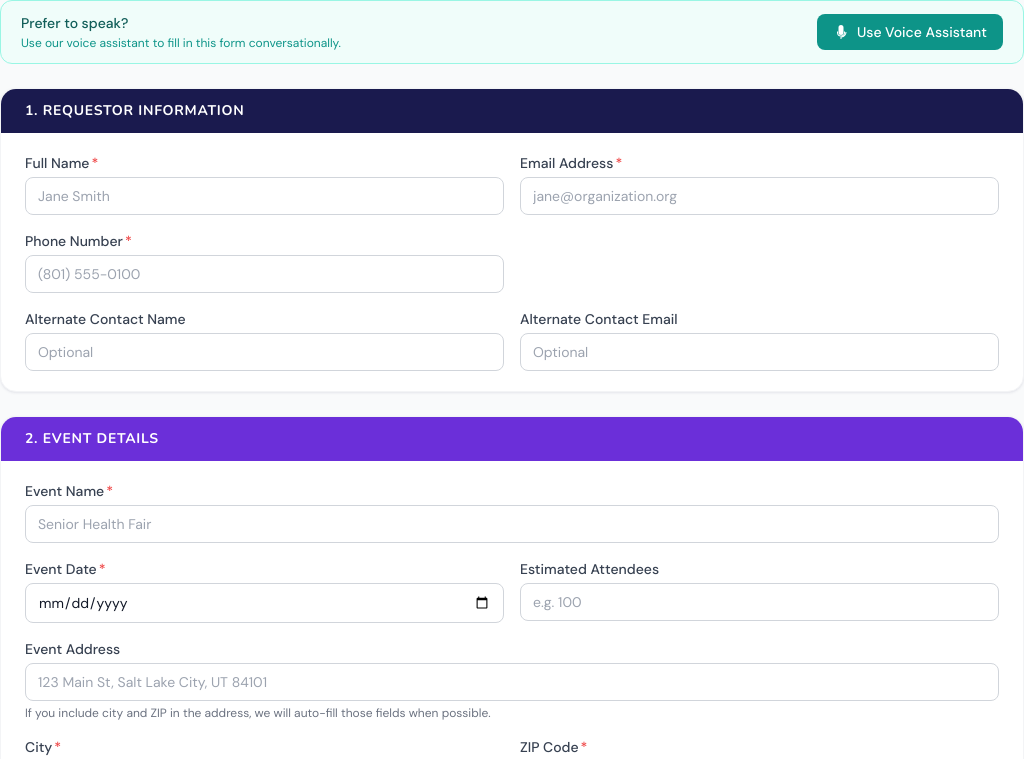
RequestForm › Event date validation › shows error for past date on blur
This screenshot has width=1024, height=759.
Type "2020-01-01" into the date field labelled "Event Date*" at (264, 603), box [25, 583, 504, 623]
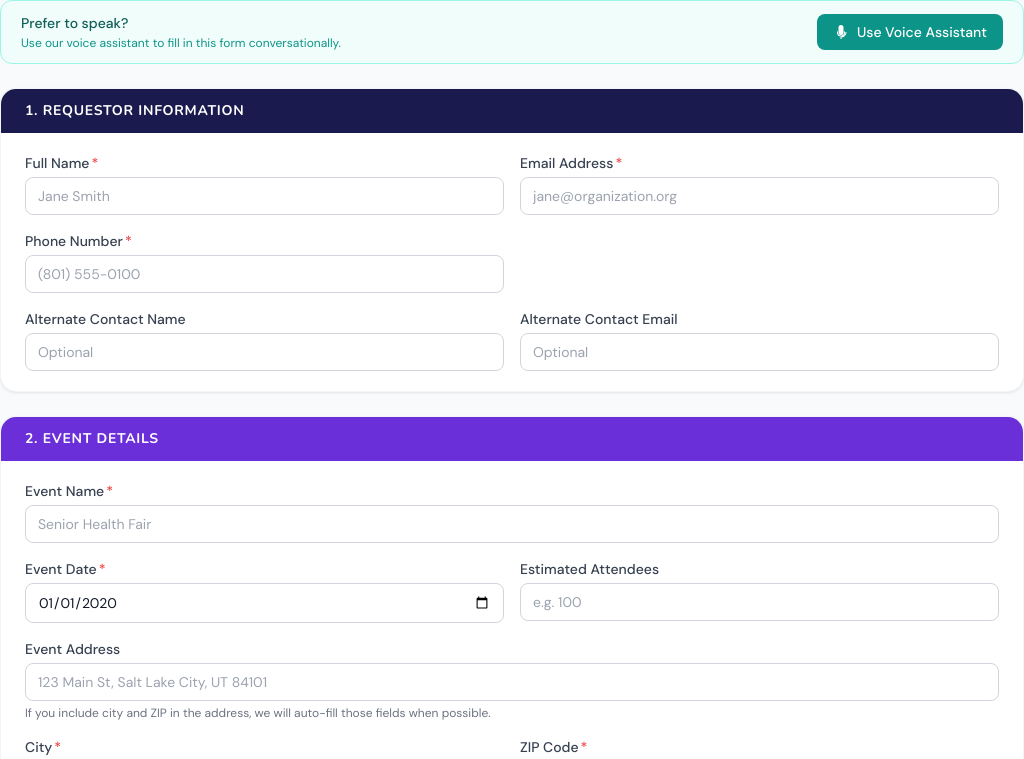
Leave the date field labelled "Event Date*", box [25, 583, 504, 623]
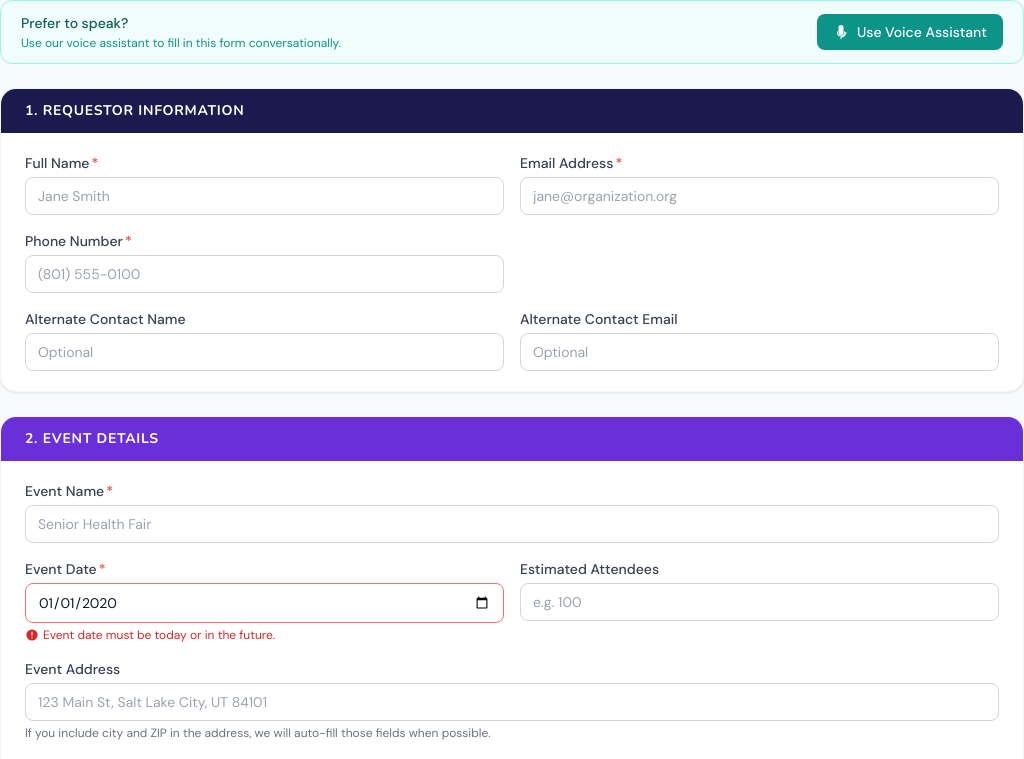
Now the text "Event date must be today or in the future." is shown, box [25, 627, 275, 643]
